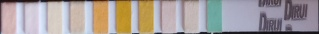color 1: (2, 4, 15, 34)
color 10: (208, 1, 220, 29)
color 2: (26, 5, 37, 34)
color 3: (48, 4, 60, 32)
color 4: (71, 3, 83, 32)
color 5: (94, 2, 106, 32)
color 6: (117, 2, 129, 32)
color 7: (140, 3, 152, 32)
color 8: (163, 2, 174, 31)
color 9: (185, 3, 197, 30)
